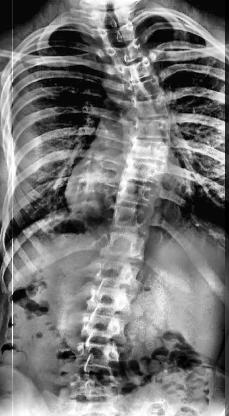Vertebrae: (75, 338, 125, 374), (85, 282, 137, 316), (80, 309, 130, 343), (95, 253, 143, 287), (103, 230, 148, 264), (121, 92, 171, 121), (116, 179, 160, 211), (120, 158, 166, 188), (124, 114, 173, 142), (110, 204, 152, 236), (105, 38, 148, 68), (114, 56, 160, 84), (120, 74, 166, 102), (124, 138, 170, 164), (95, 21, 139, 47)
